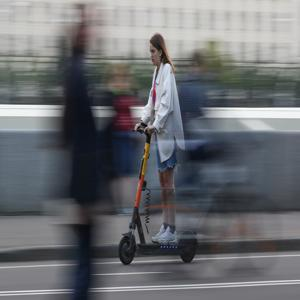human on a scooter: (117, 33, 199, 266)
